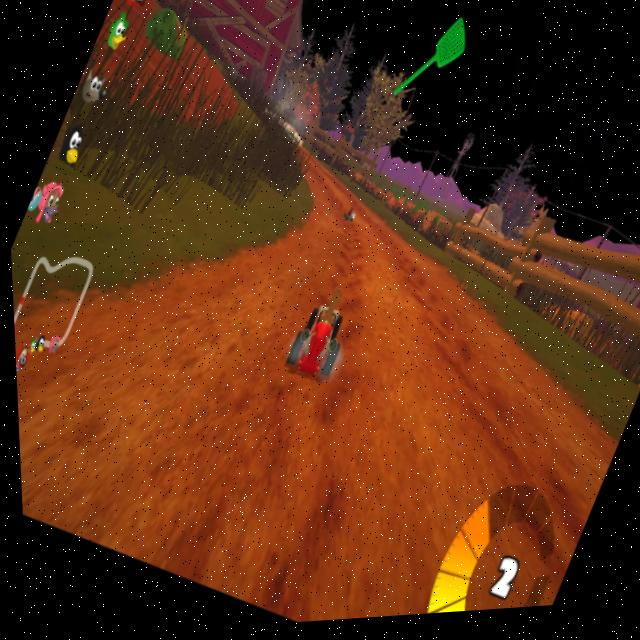enemy_kart: (336, 204, 362, 232)
off_track: (366, 169, 640, 368), (94, 86, 321, 242)
player_kart: (264, 287, 365, 401)
track: (287, 215, 424, 324), (296, 148, 314, 167)
